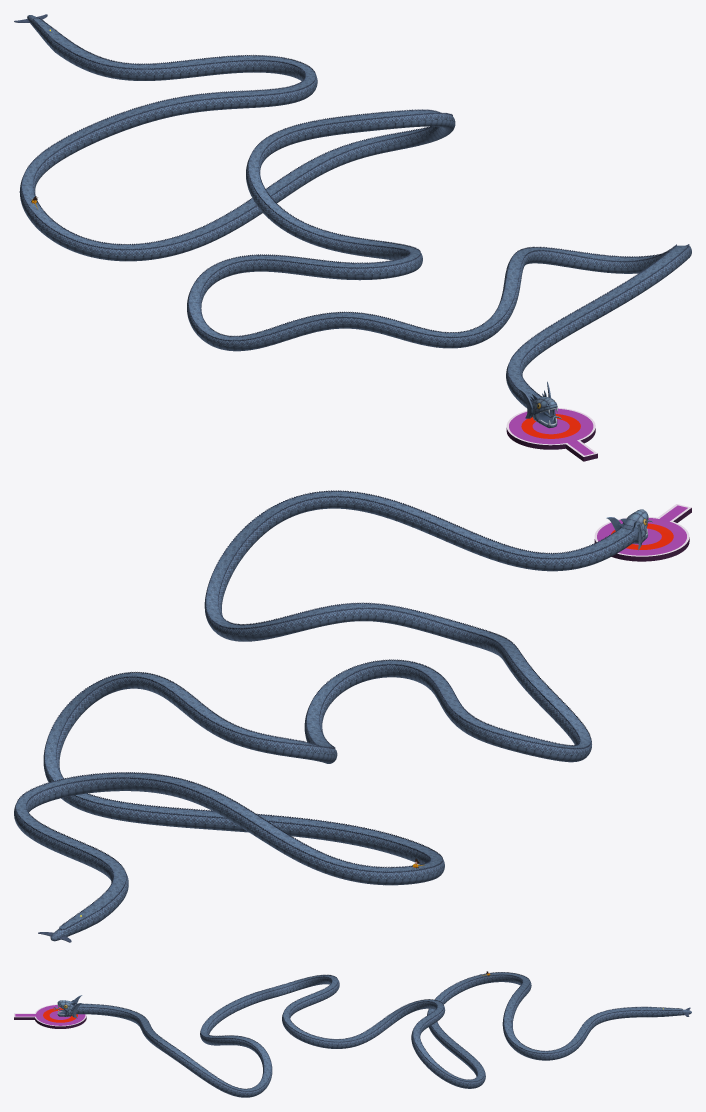
Rendered from dbz-scene.glb.
3 views of the same model, one above another, from view 1: azimuth 30°, elevation 25°; view 2: azimuth 150°, elevation 25°; view 3: azimuth 270°, elevation 25° (orthographic). The views are drawn at different scales.
Visible parts, largest first — view 1: body, platform, head; view 2: body, platform, tail, head; view 3: body, platform, tail, head.
Boxes of the visible parts, bbox=[...] form: body: bbox=[19, 37, 691, 407]; platform: bbox=[506, 407, 597, 461]; head: bbox=[518, 381, 561, 428]; body: bbox=[14, 490, 635, 921]; platform: bbox=[594, 504, 691, 561]; tail: bbox=[38, 906, 102, 942]; head: bbox=[606, 509, 652, 550]; body: bbox=[76, 972, 650, 1097]; platform: bbox=[14, 1004, 86, 1028]; tail: bbox=[650, 1007, 691, 1017]; head: bbox=[53, 995, 82, 1018].
Size of what is drawn, in the model's own units: 6.34 by 1.43 by 14.95.
Materials: 6 (4 with a texture image).
